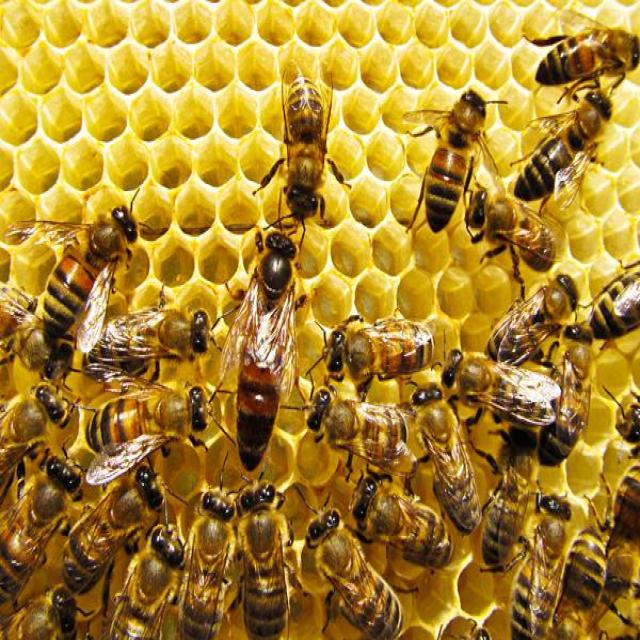honeybee: (230, 222, 298, 476), (39, 187, 148, 334), (312, 512, 402, 640), (340, 472, 459, 563), (93, 373, 221, 457), (77, 451, 158, 580), (0, 455, 75, 590), (516, 90, 608, 200), (180, 469, 236, 640), (421, 85, 485, 234), (510, 484, 570, 640), (276, 66, 332, 233), (477, 268, 582, 354), (299, 384, 409, 465), (482, 416, 537, 577), (237, 484, 294, 639), (438, 339, 544, 418), (320, 306, 436, 378), (526, 24, 640, 91), (465, 187, 553, 271), (121, 523, 183, 640), (545, 321, 594, 465), (605, 462, 640, 639), (558, 524, 605, 640), (0, 379, 59, 465), (584, 253, 640, 342), (0, 586, 82, 640)
